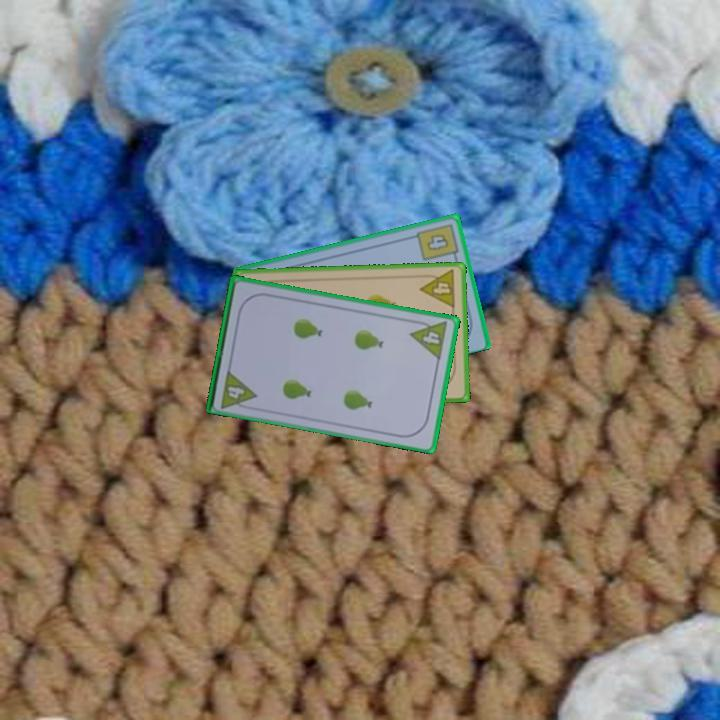4b: (413, 220, 461, 264)
4p: (407, 316, 450, 362), (217, 366, 259, 413), (417, 266, 458, 311)
